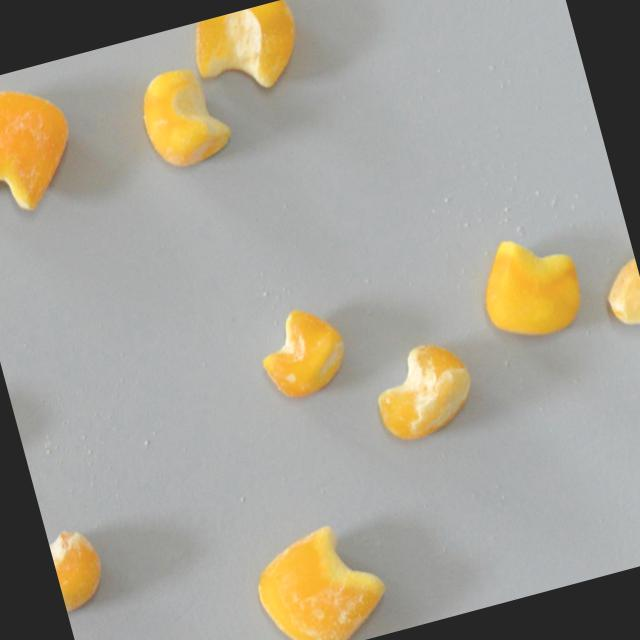no_canjicado: (469, 221, 592, 350)
pelicula: (246, 513, 398, 640), (364, 333, 483, 446), (0, 73, 90, 218), (186, 0, 311, 104), (133, 56, 239, 173), (250, 297, 356, 405), (46, 521, 112, 613), (600, 255, 640, 394)
